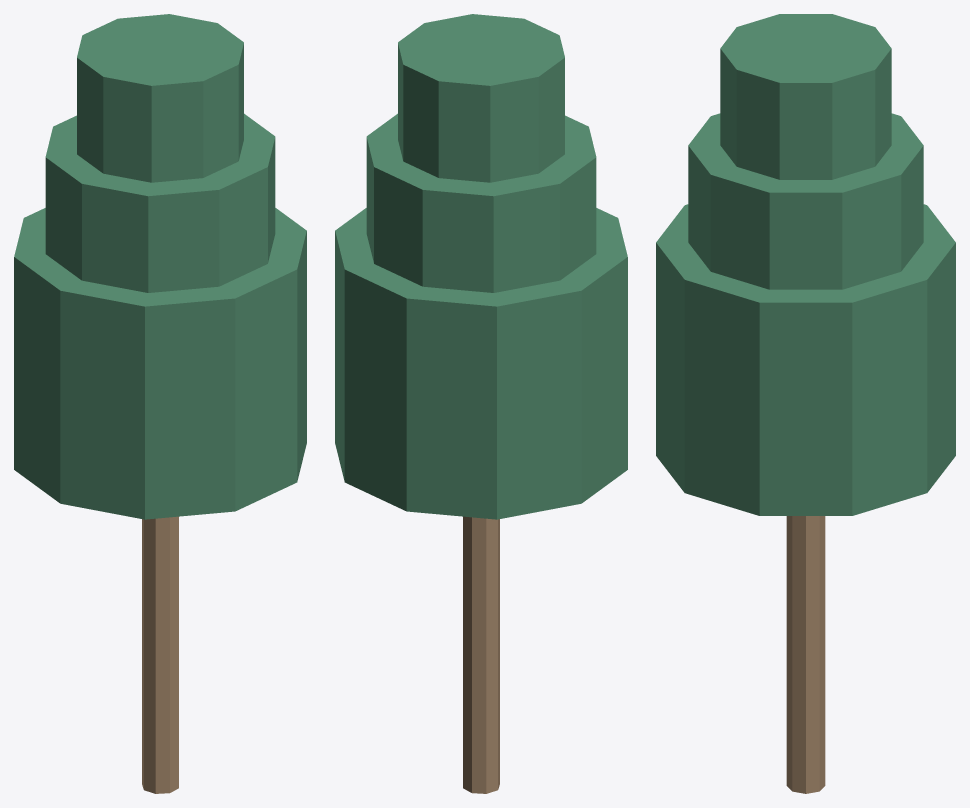
File: spruce.glb
The picture shows the model from 3 angles, left to right: view 1: azimuth 30°, elevation 25°; view 2: azimuth 150°, elevation 25°; view 3: azimuth 270°, elevation 25°; orthographic projection.
Parts seen in each view (by area): view 1: cone0, cone1, cone2, trunk; view 2: cone0, cone1, cone2, trunk; view 3: cone0, cone1, cone2, trunk.
Boxes of the visible parts, box(x1,y1,x2,y2) form: cone0: box(14, 208, 306, 519); cone1: box(45, 113, 275, 292); cone2: box(77, 14, 243, 182); trunk: box(142, 516, 178, 793); cone0: box(335, 208, 627, 519); cone1: box(366, 113, 596, 292); cone2: box(398, 14, 564, 182); trunk: box(463, 516, 499, 793); cone0: box(656, 204, 955, 515); cone1: box(688, 113, 923, 289); cone2: box(720, 14, 891, 179); trunk: box(786, 516, 825, 793).
Size of the model in its own units: 2.66 by 7.6 by 2.8.
